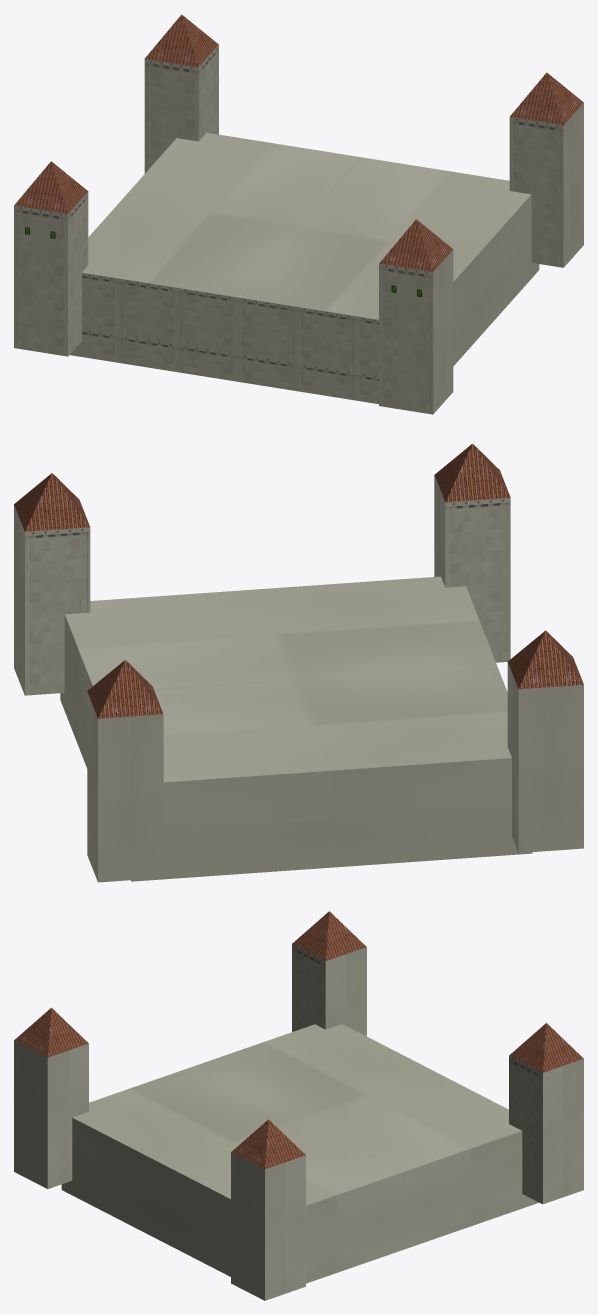
Rendered from castleInner.fbx.
3 views of the same model, one above another, from view 1: azimuth 30°, elevation 25°; view 2: azimuth 150°, elevation 25°; view 3: azimuth 270°, elevation 25° (orthographic). The views are drawn at different scales.
Visible parts, largest first — view 1: castleInner; view 2: castleInner; view 3: castleInner.
Part boxes in pixels (box(x1,y1,x2,y2)): castleInner: box(14, 14, 583, 414); castleInner: box(14, 443, 583, 882); castleInner: box(14, 911, 583, 1300).
Bounding box in the file's own units: 30366 × 10663 × 30496.
